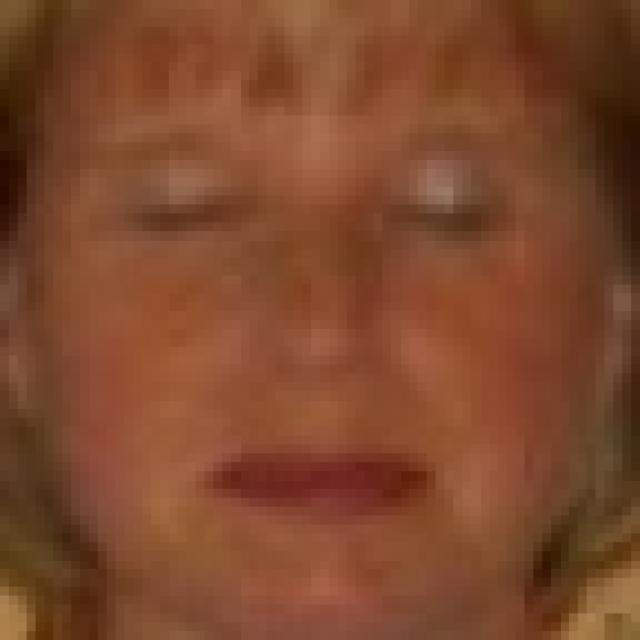Eyeclosed: (396, 179, 496, 244), (135, 184, 248, 239)
